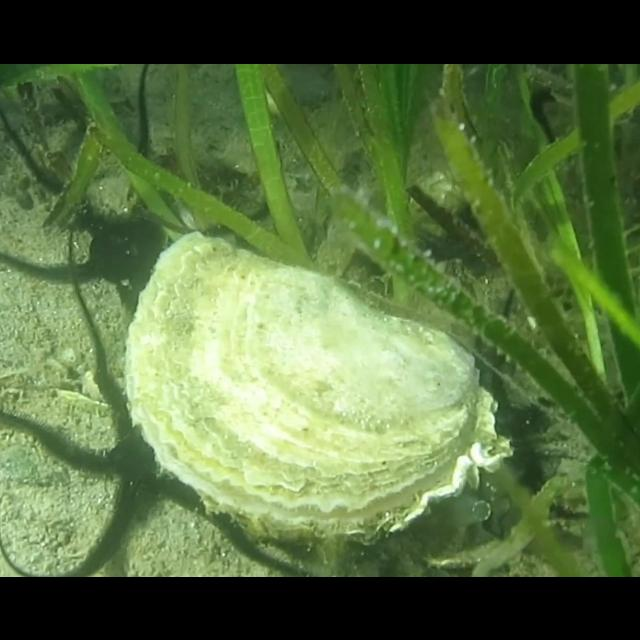Oyster-Open: (123, 228, 513, 542)
